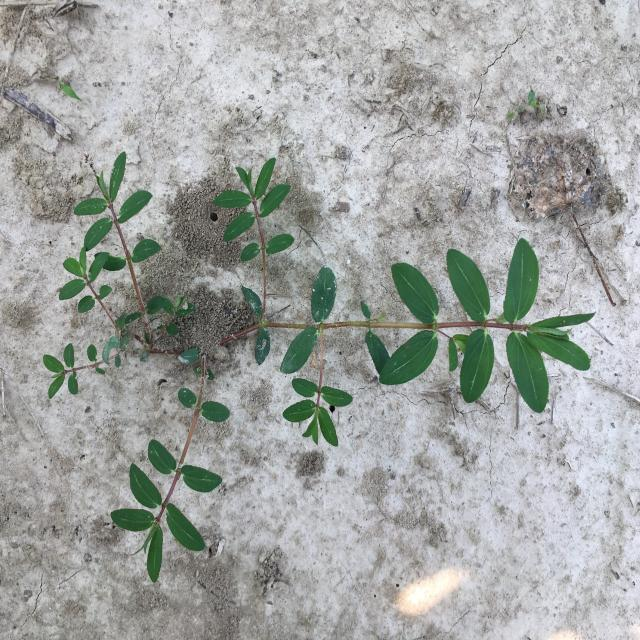SpottedSpurge: (41, 151, 598, 584)
